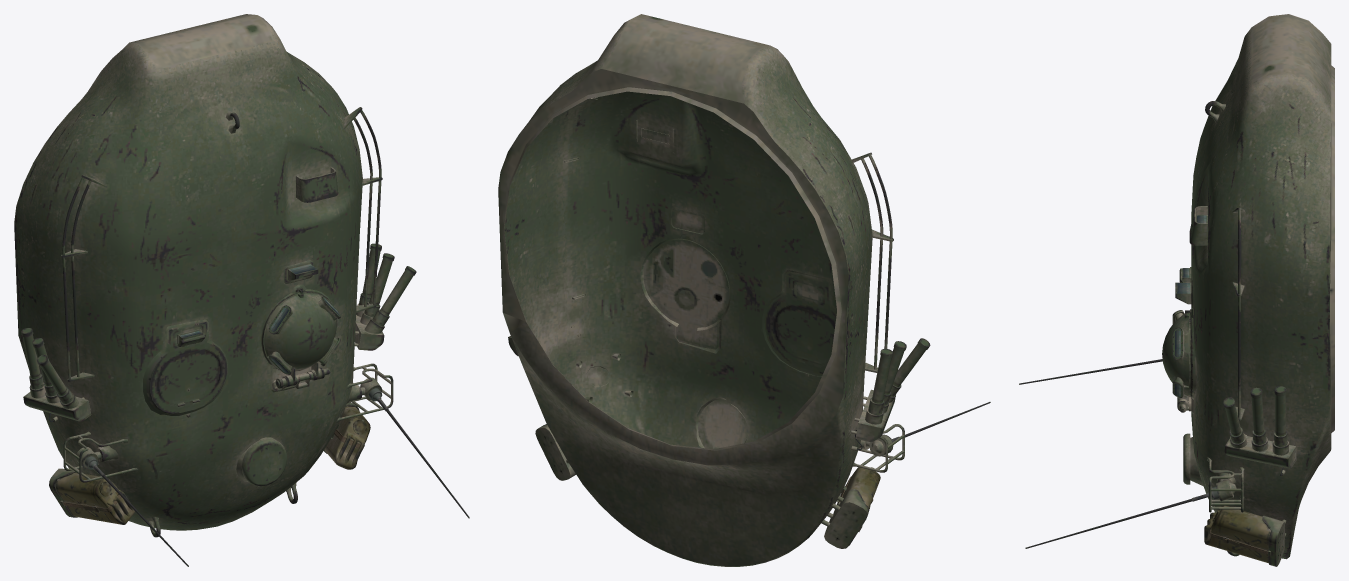
File: Turret_01.glb
3 views of the same model, side by side, from view 1: azimuth 30°, elevation 25°; view 2: azimuth 150°, elevation 25°; view 3: azimuth 270°, elevation 25° (orthographic). The views are drawn at different scales.
Visible parts, largest first — view 1: set_0_group_0; view 2: set_0_group_0; view 3: set_0_group_0.
Boxes of the visible parts, x1,y1,x2,y2 form: set_0_group_0: (14,14,469,566); set_0_group_0: (498,14,990,566); set_0_group_0: (1019,14,1334,566).
Size of the model in its own units: 3.04 by 3.78 by 2.17.
1 material, 1 textured.
